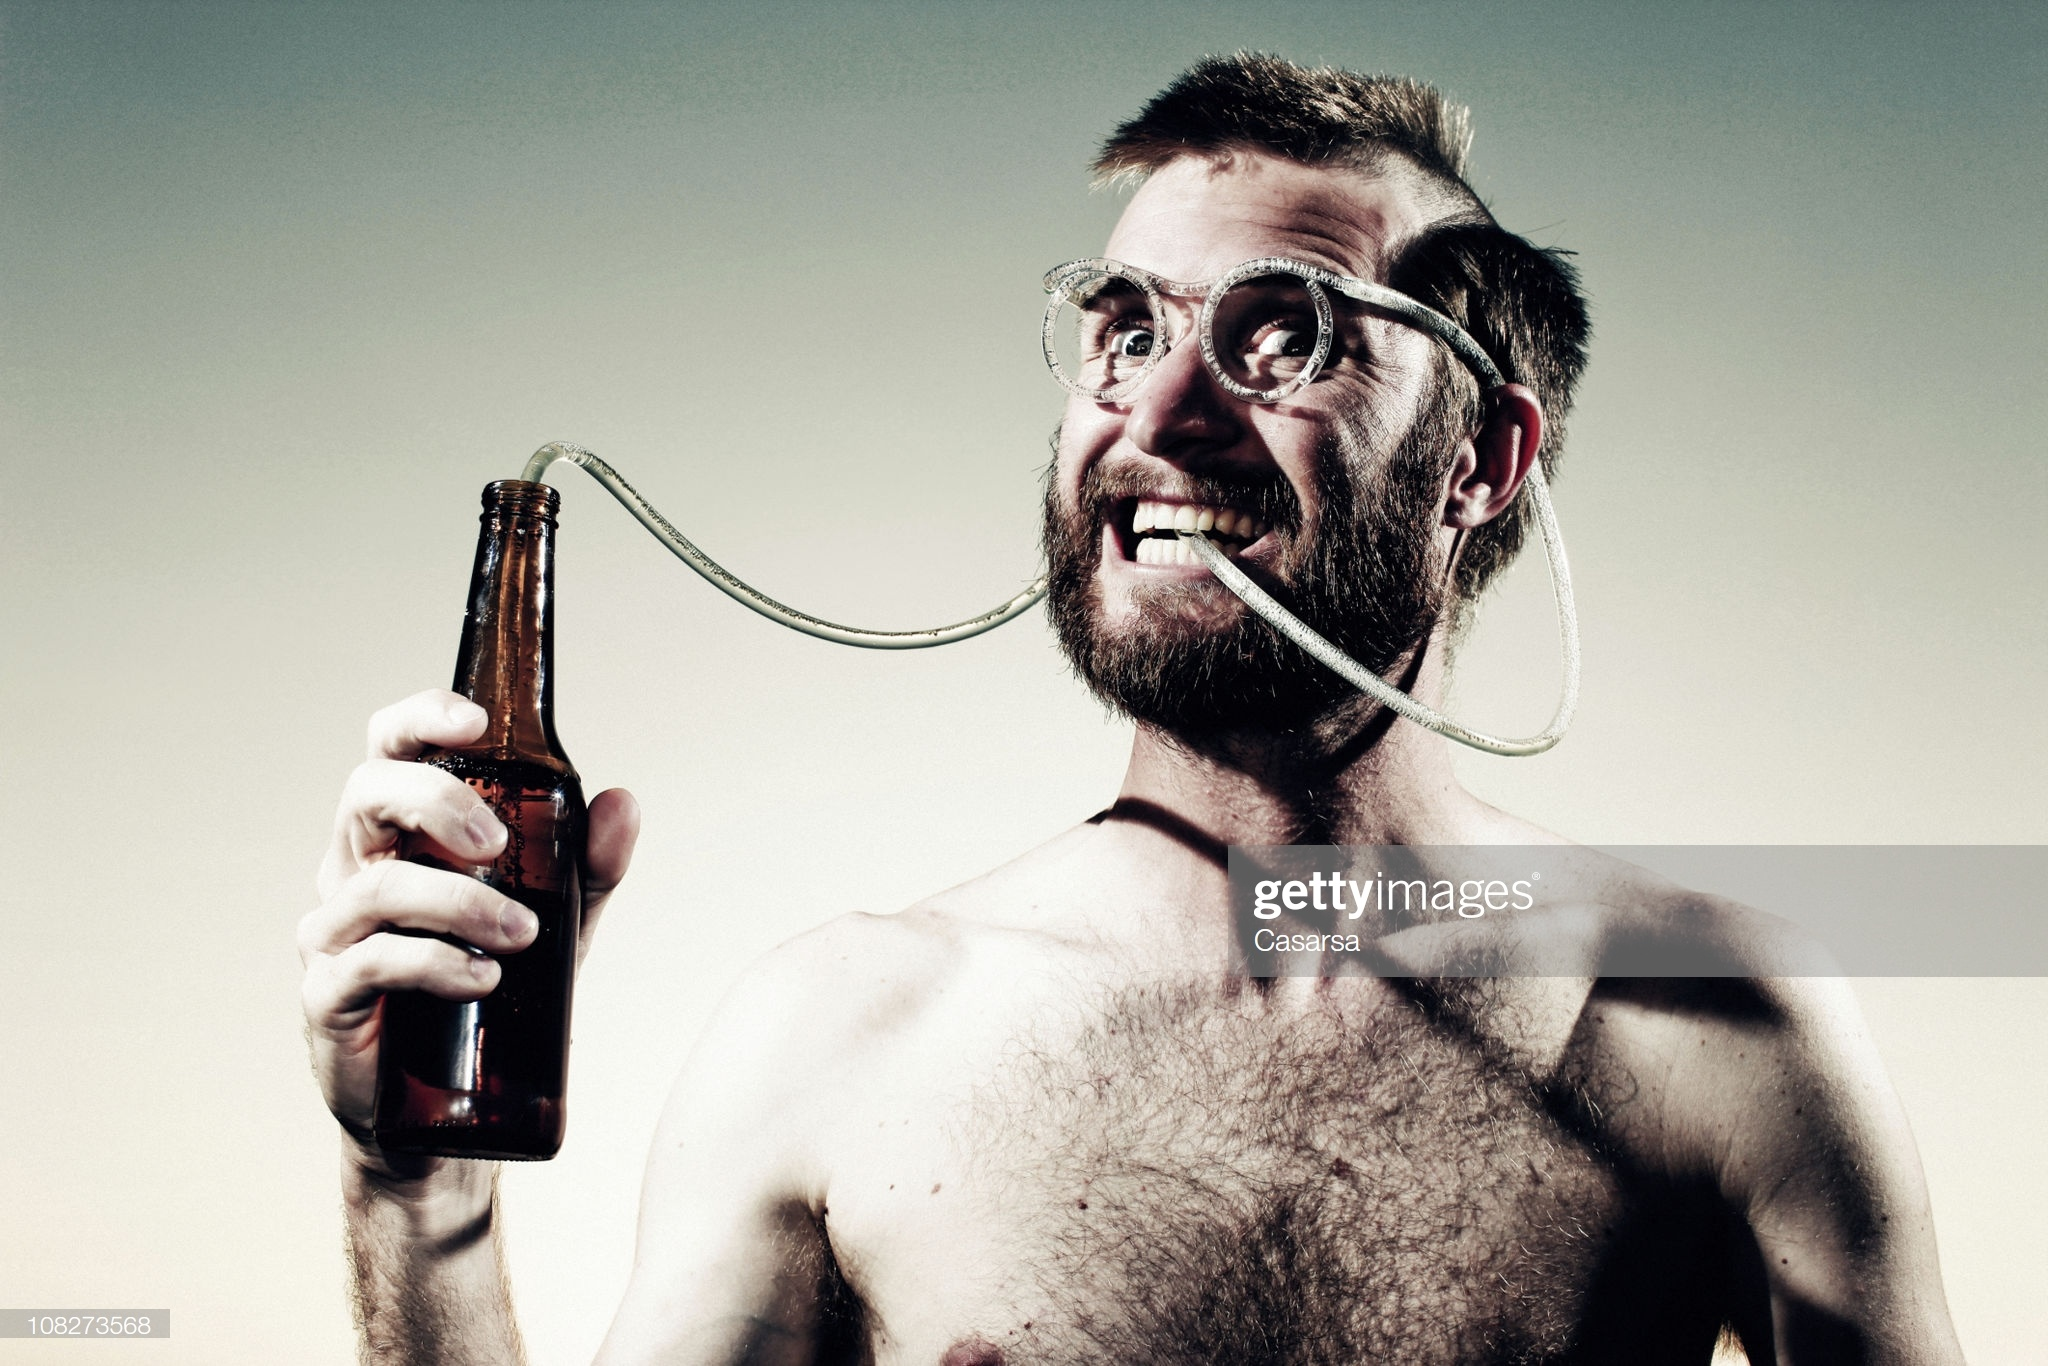beerBottle: (379, 473, 582, 1171)
